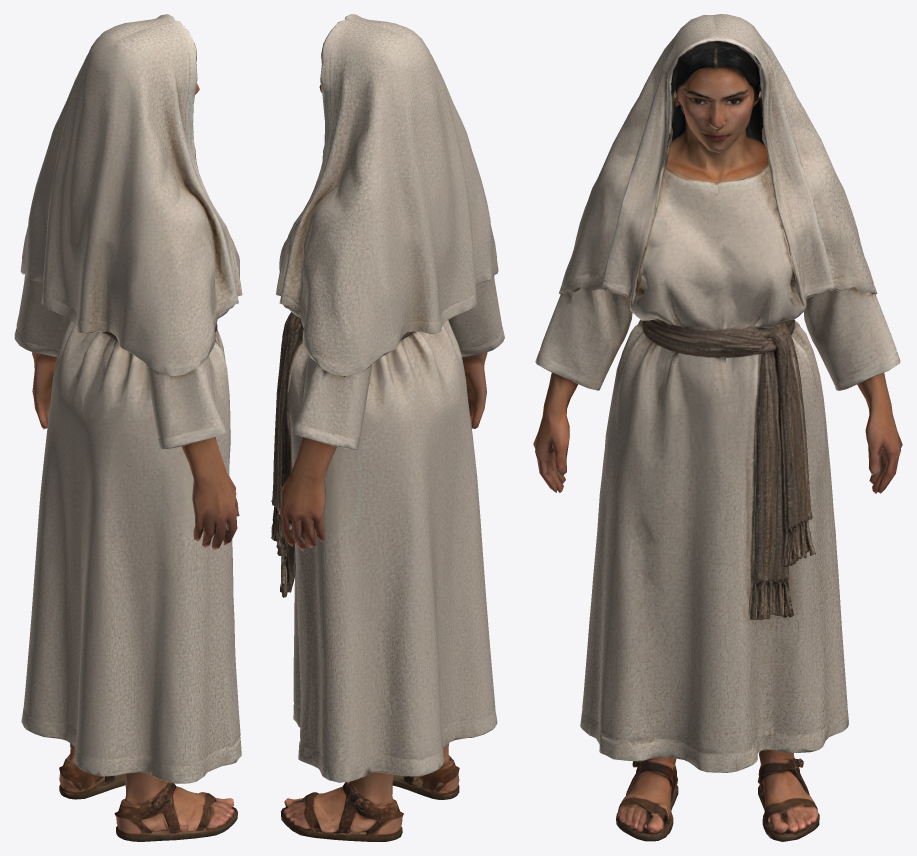
File: woman.glb
3 renders of one model, left to right at view 1: azimuth 30°, elevation 25°; view 2: azimuth 150°, elevation 25°; view 3: azimuth 270°, elevation 25°, orthographic.
Parts seen in each view (by area): view 1: tripo_node_20891089-a7b6-4184-9fcb-915afd0b6d49; view 2: tripo_node_20891089-a7b6-4184-9fcb-915afd0b6d49; view 3: tripo_node_20891089-a7b6-4184-9fcb-915afd0b6d49.
Part boxes in pixels (x1=…): tripo_node_20891089-a7b6-4184-9fcb-915afd0b6d49: x1=14, y1=14, x2=242, y2=841; tripo_node_20891089-a7b6-4184-9fcb-915afd0b6d49: x1=271, y1=14, x2=504, y2=841; tripo_node_20891089-a7b6-4184-9fcb-915afd0b6d49: x1=533, y1=14, x2=902, y2=841.
Bounding box in the file's own units: 0.2176 × 0.9777 × 0.4144.
Materials: 1 (1 with a texture image).
